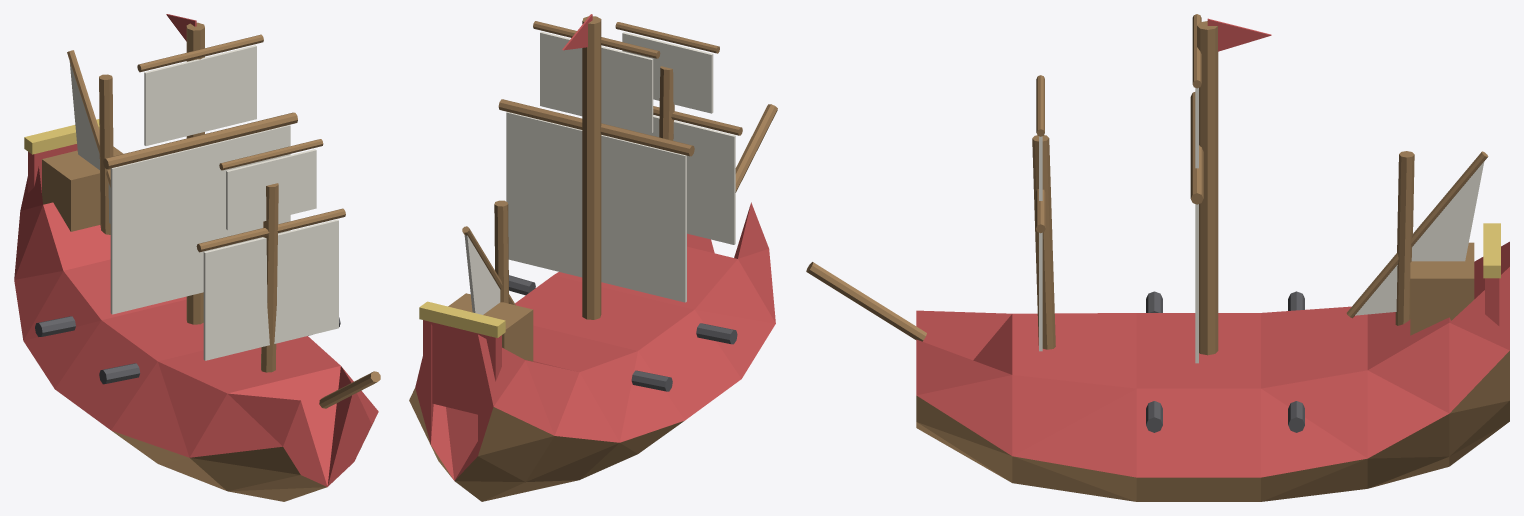
The model's file is Fluyt.fbx.
3 views of the same model, side by side, from view 1: azimuth 30°, elevation 25°; view 2: azimuth 150°, elevation 25°; view 3: azimuth 270°, elevation 25° (orthographic). The views are drawn at different scales.
Visible parts, largest first — view 1: Fluyt; view 2: Fluyt; view 3: Fluyt.
Boxes of the visible parts, x1=… form: Fluyt: x1=14, y1=14, x2=380, y2=501; Fluyt: x1=409, y1=14, x2=777, y2=501; Fluyt: x1=806, y1=14, x2=1509, y2=501.
Size of the model in its own units: 6.77 by 11.82 by 15.92.
